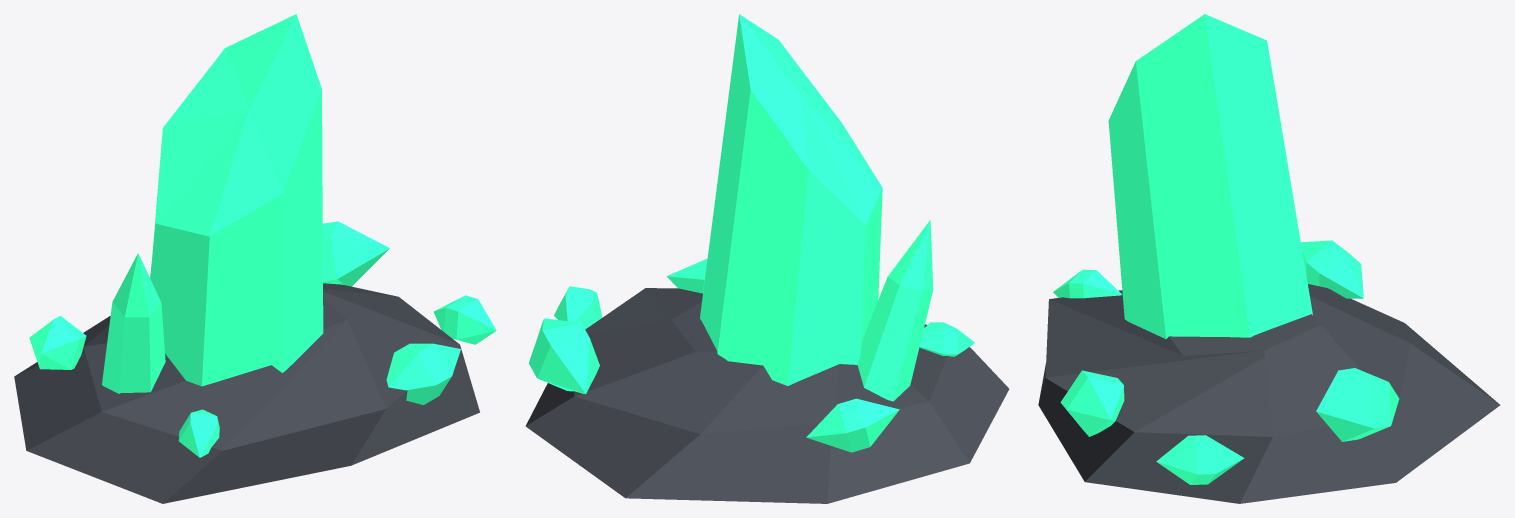
Rendered from PROP_08_BrokenCrystalFormation.fbx.
3 renders of one model, left to right at view 1: azimuth 30°, elevation 25°; view 2: azimuth 150°, elevation 25°; view 3: azimuth 270°, elevation 25°, orthographic. The views are drawn at different scales.
Parts seen in each view (by area): view 1: PROP_08_BrokenCrystalFormation; view 2: PROP_08_BrokenCrystalFormation; view 3: PROP_08_BrokenCrystalFormation.
Boxes of the visible parts, x1=… form: PROP_08_BrokenCrystalFormation: x1=14, y1=14, x2=496, y2=503; PROP_08_BrokenCrystalFormation: x1=525, y1=14, x2=1009, y2=503; PROP_08_BrokenCrystalFormation: x1=1038, y1=14, x2=1500, y2=503.
Bounding box in the file's own units: 203 × 170 × 176.
